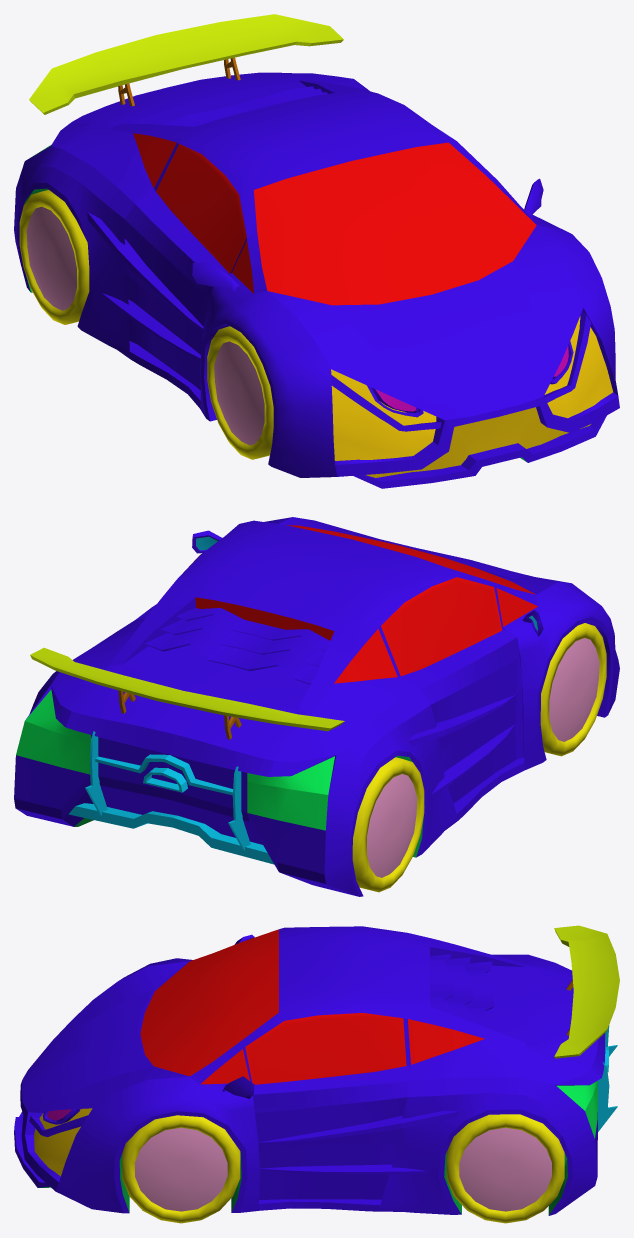
Rendered from 02_TierraZester_ColorCoded.fbx.
3 views of the same model, one above another, from view 1: azimuth 30°, elevation 25°; view 2: azimuth 150°, elevation 25°; view 3: azimuth 270°, elevation 25° (orthographic). The views are drawn at different scales.
Visible parts, largest first — view 1: Body, Spoiler, tireBackR, tireFrontR; view 2: Body, tireBackR, tireFrontR, Spoiler; view 3: Body, tireBackL, tireFrontL, Spoiler.
Part boxes in pixels (box(x1,y1,x2,y2)): Body: box(14, 72, 619, 488); Spoiler: box(29, 14, 343, 114); tireBackR: box(19, 190, 89, 324); tireFrontR: box(207, 326, 273, 459); Body: box(14, 517, 619, 896); tireBackR: box(352, 757, 424, 892); tireFrontR: box(540, 623, 606, 756); Spoiler: box(30, 647, 344, 739); Body: box(14, 926, 617, 1215); tireBackL: box(446, 1114, 564, 1223); tireFrontL: box(122, 1115, 240, 1223); Spoiler: box(554, 925, 619, 1058).
Size of the model in its own units: 67.41 by 115 by 40.18.
